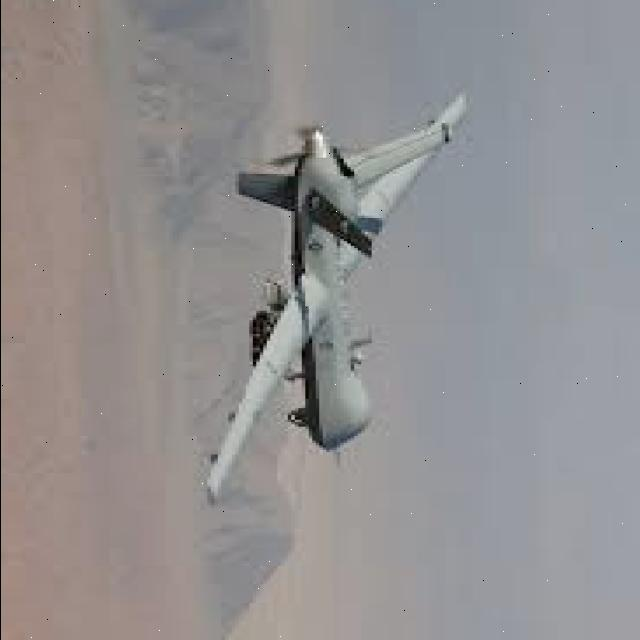Tu160: (155, 37, 530, 544)
